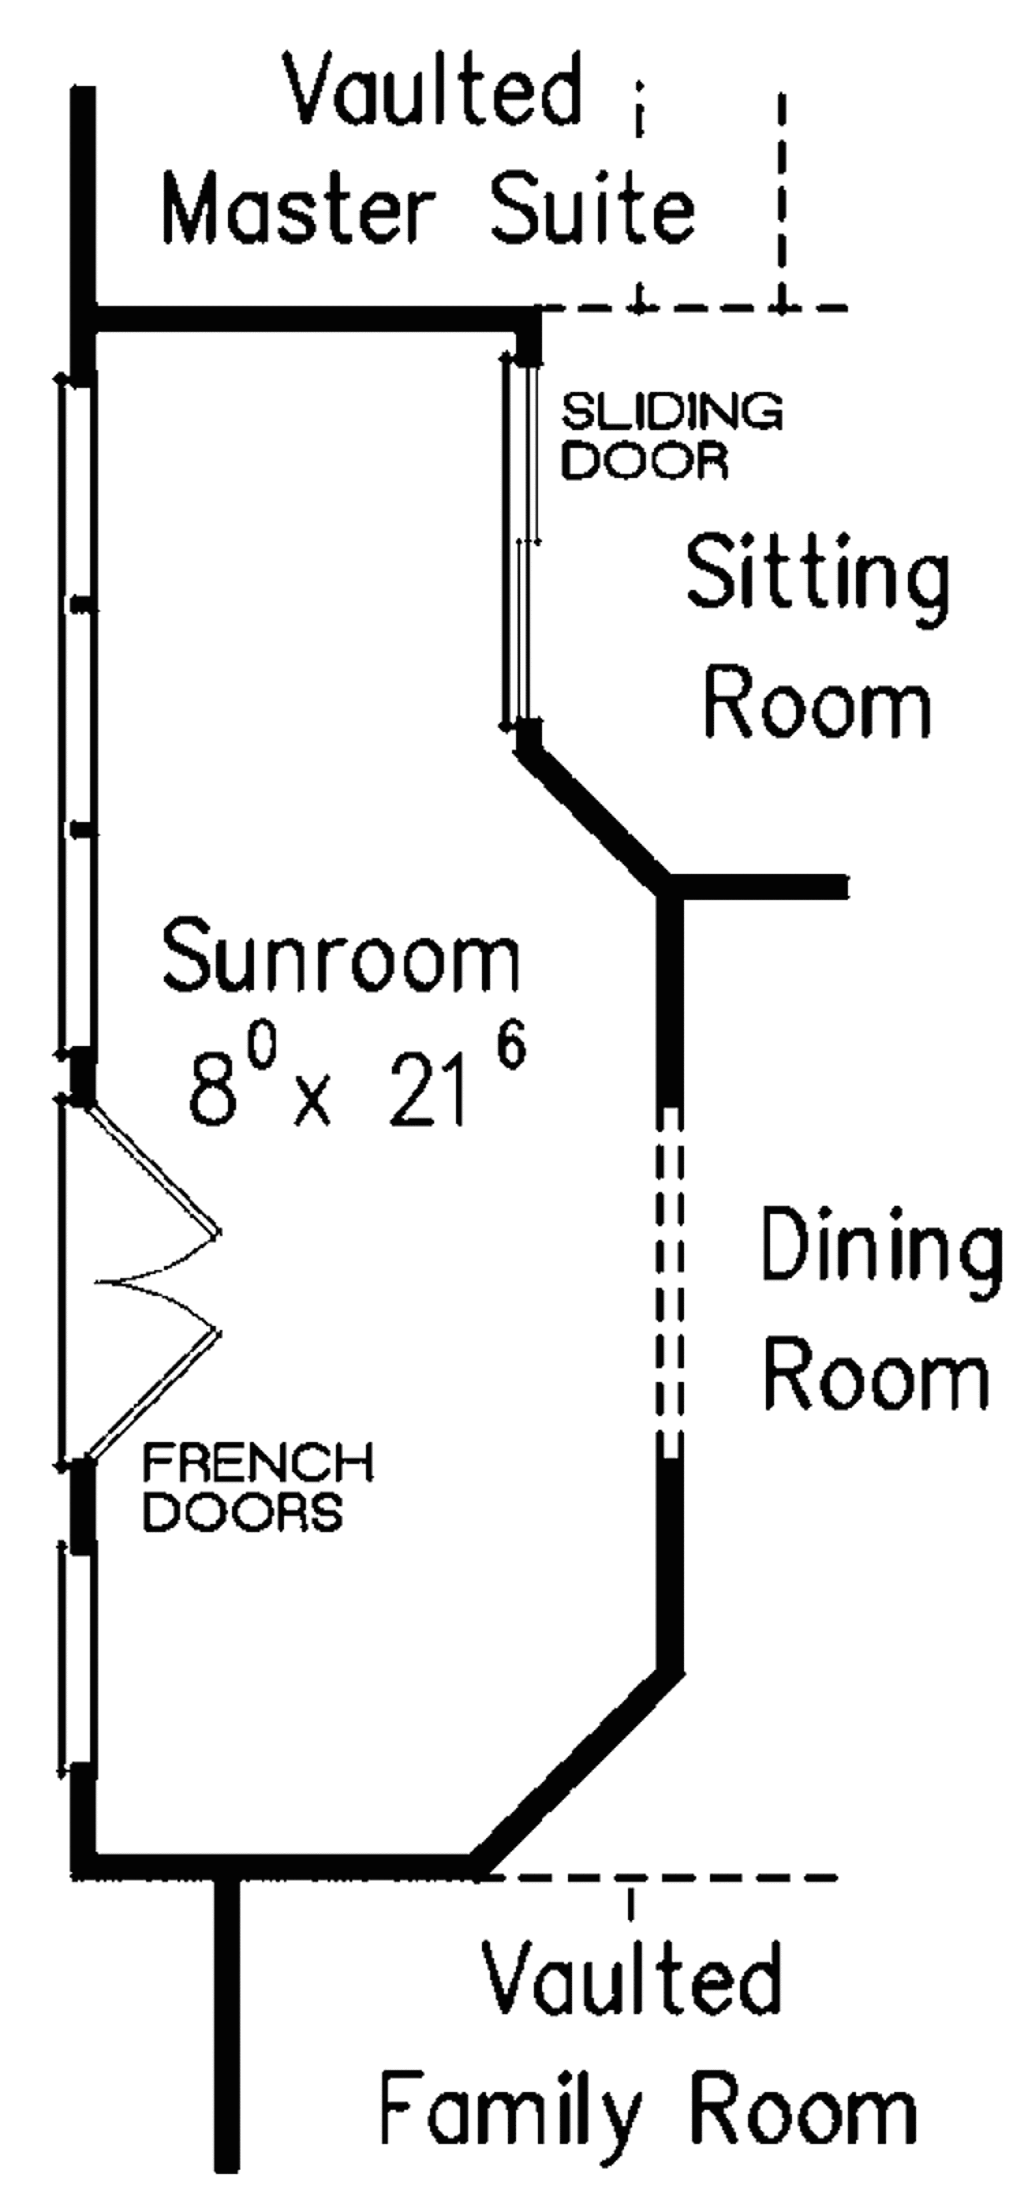door: (60, 1096, 251, 1472)
window: (24, 358, 145, 1042), (17, 1538, 124, 1801)
